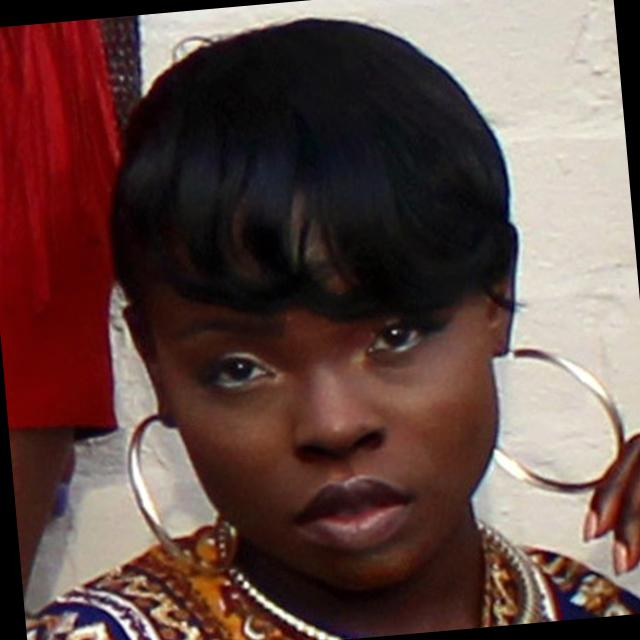face: (80, 34, 587, 614)
